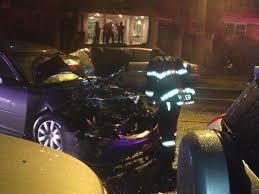bonnet-dent: (72, 69, 146, 105)
